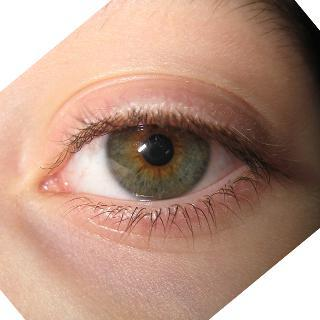pupil: (142, 134, 175, 167)
